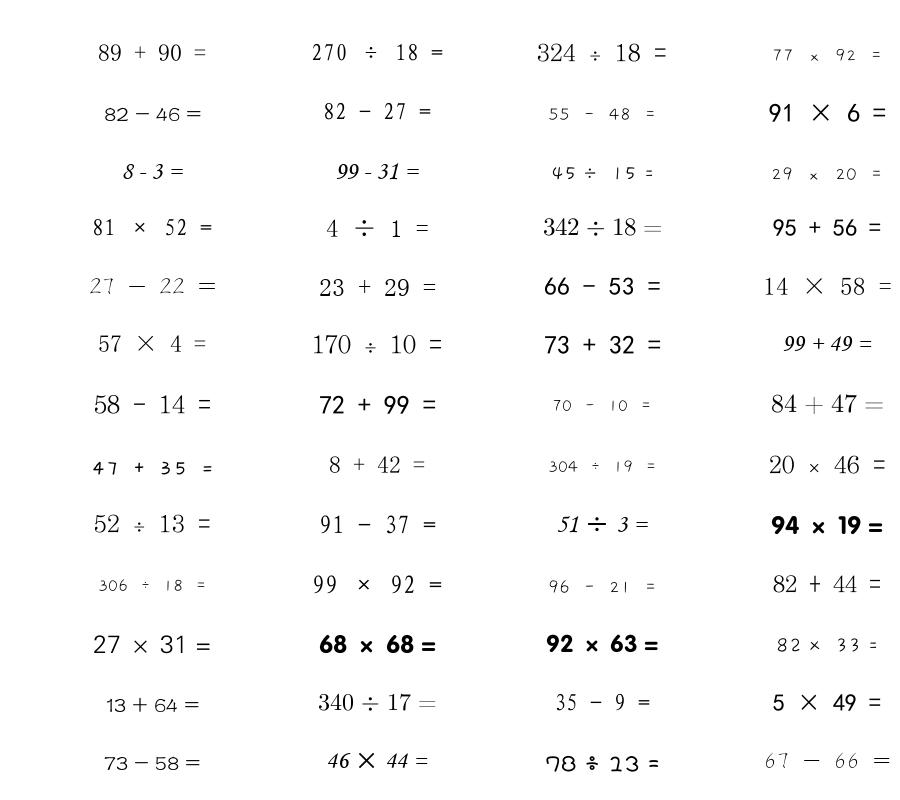MQ: (312, 334, 442, 354), (537, 43, 667, 62), (312, 575, 442, 594), (311, 43, 443, 61), (771, 394, 884, 415), (94, 394, 211, 414), (319, 634, 436, 654), (763, 277, 892, 295), (93, 635, 211, 654), (771, 515, 883, 535), (769, 103, 886, 122), (544, 335, 661, 354), (319, 395, 436, 414), (769, 455, 886, 474), (94, 514, 211, 533), (319, 515, 436, 534), (92, 218, 212, 236), (89, 278, 216, 295), (764, 752, 891, 769), (543, 218, 662, 236), (318, 693, 437, 711), (546, 634, 658, 653), (544, 277, 661, 295), (319, 279, 436, 296), (545, 755, 660, 772), (323, 102, 431, 120), (773, 575, 881, 593), (326, 219, 429, 237), (98, 44, 206, 61), (773, 219, 881, 236), (98, 335, 206, 352), (773, 694, 881, 711), (326, 752, 428, 769), (554, 693, 650, 711), (91, 461, 214, 475), (329, 456, 425, 473), (771, 167, 883, 181), (556, 516, 648, 533), (772, 48, 883, 62), (551, 166, 654, 181), (776, 638, 878, 653), (548, 580, 657, 594), (106, 697, 199, 713), (104, 107, 201, 122), (335, 163, 419, 180), (548, 108, 657, 121), (548, 460, 657, 473), (98, 579, 207, 592), (782, 336, 872, 351), (104, 756, 200, 770), (552, 400, 652, 412), (121, 164, 183, 179)
